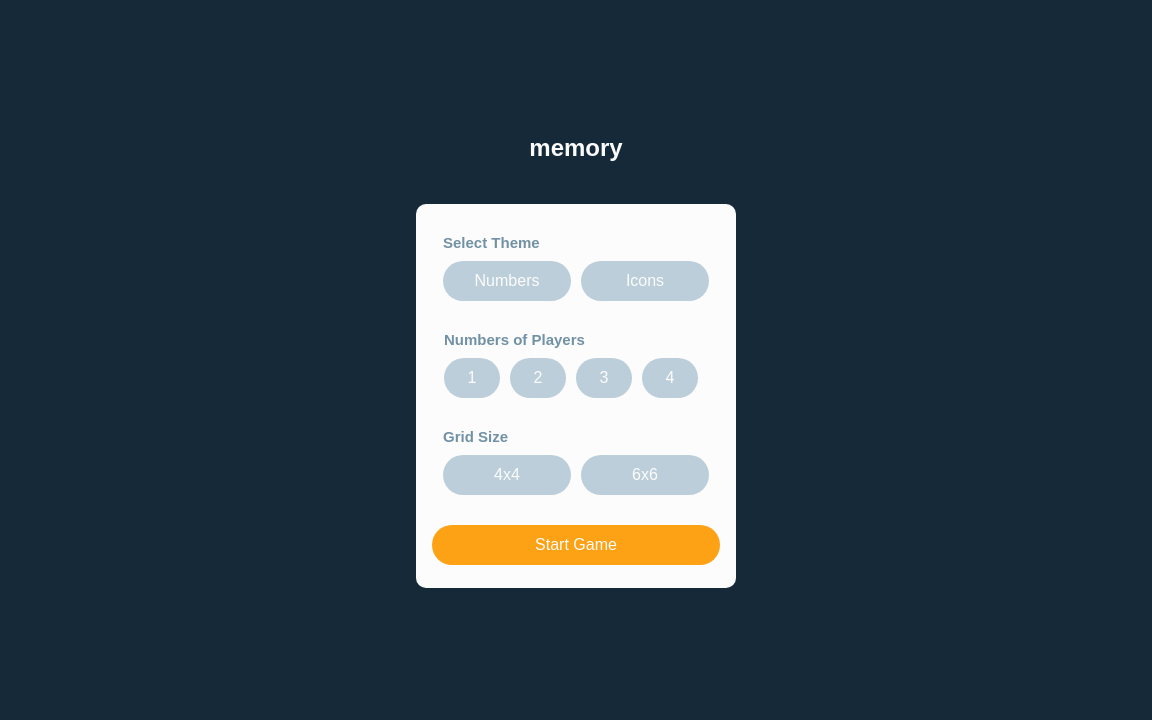
Scenario: test start game › when an icon theme, multiplayer and 4x4 grid is selected
Click the button with test id "icons" at (645, 281), box [581,261,709,301]
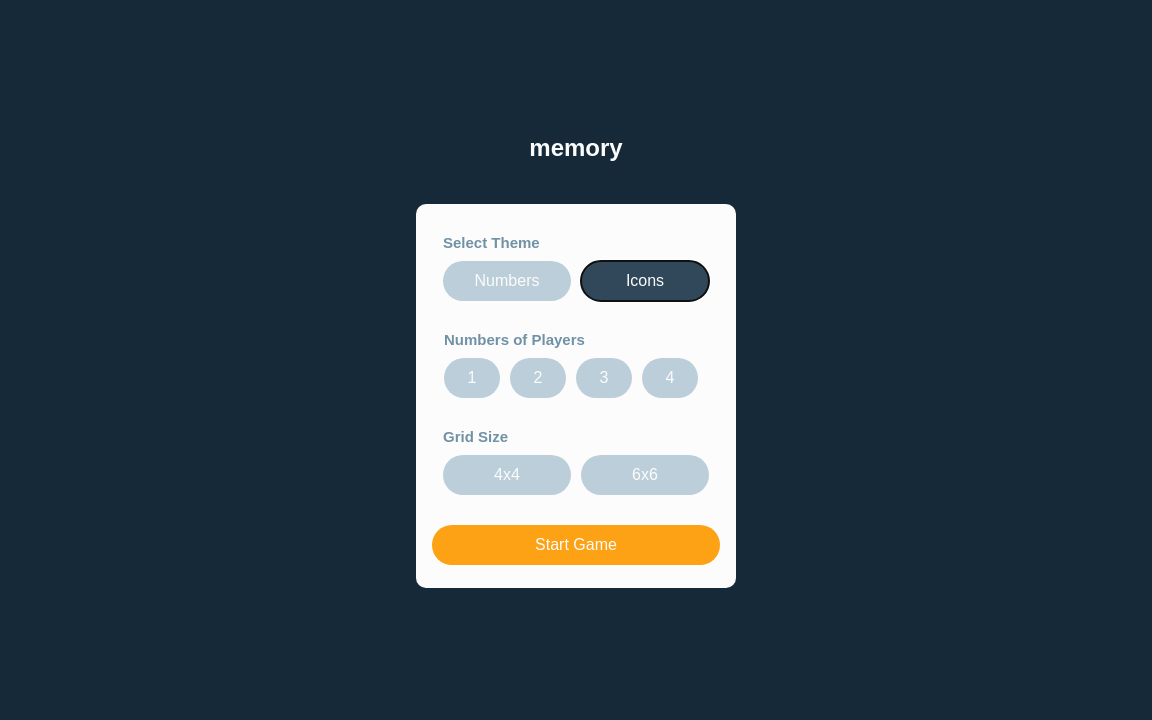
Click the button with test id "player number 2" at (538, 378), box [510,358,566,398]
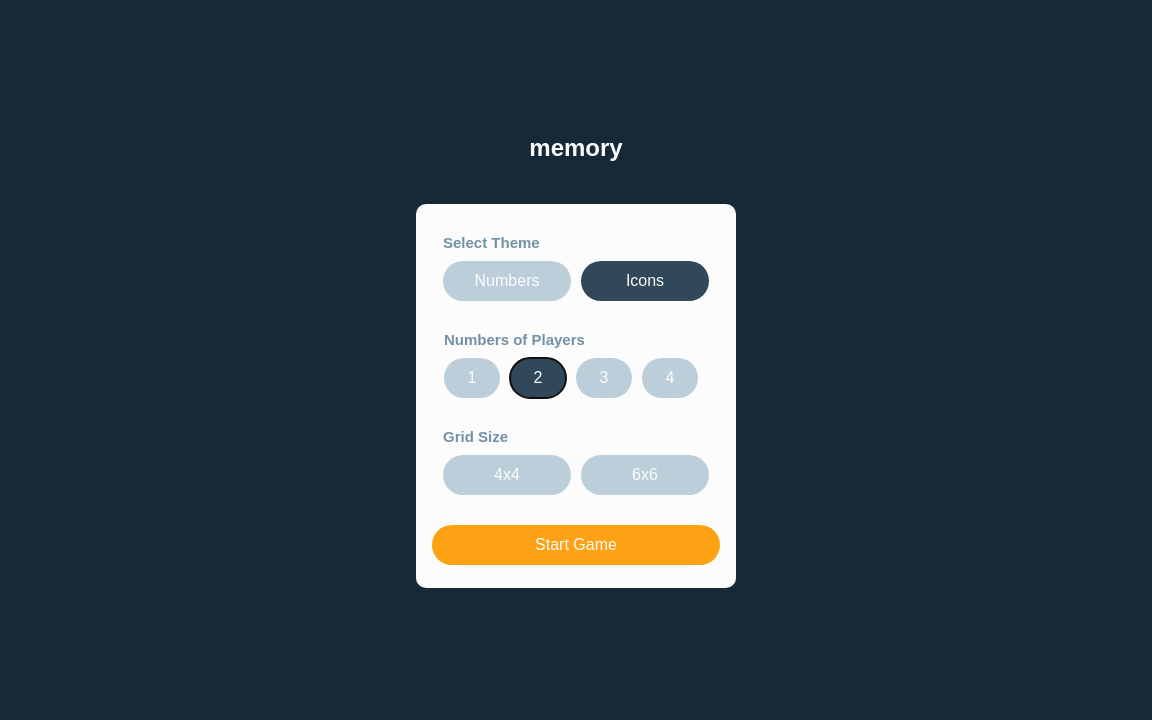
Click the button with test id "4x4" at (507, 475), box [443,455,571,495]
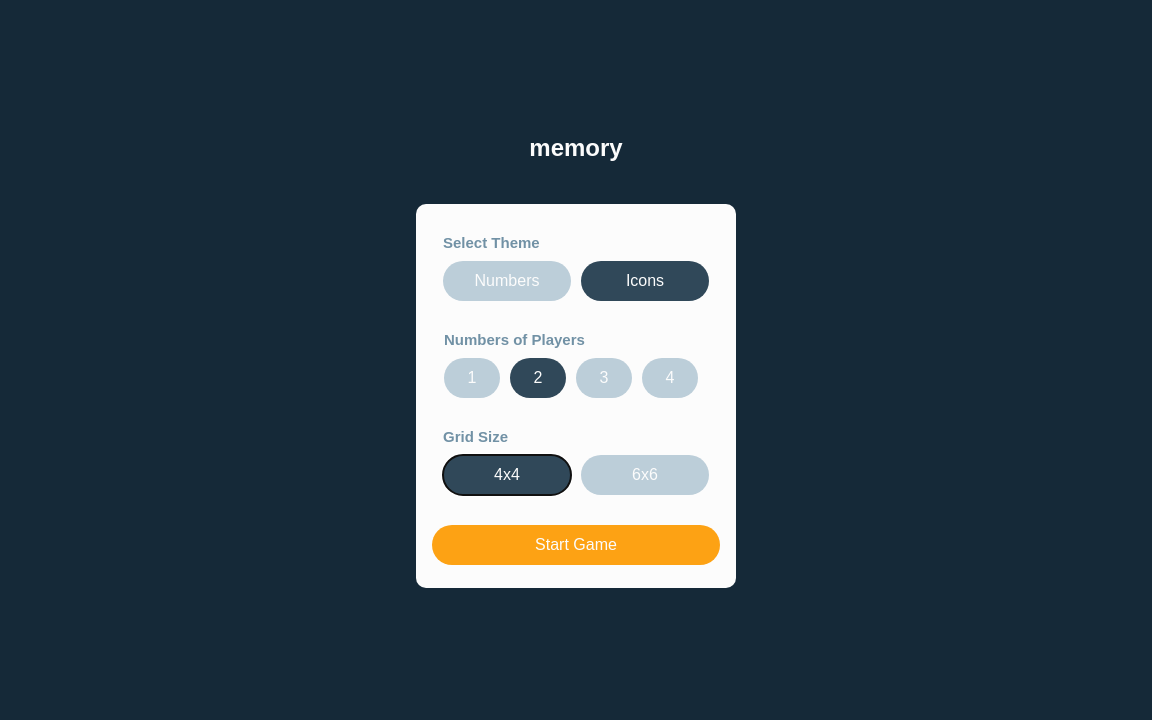
Click the button with test id "start-game" at (576, 545), box [432,525,720,565]
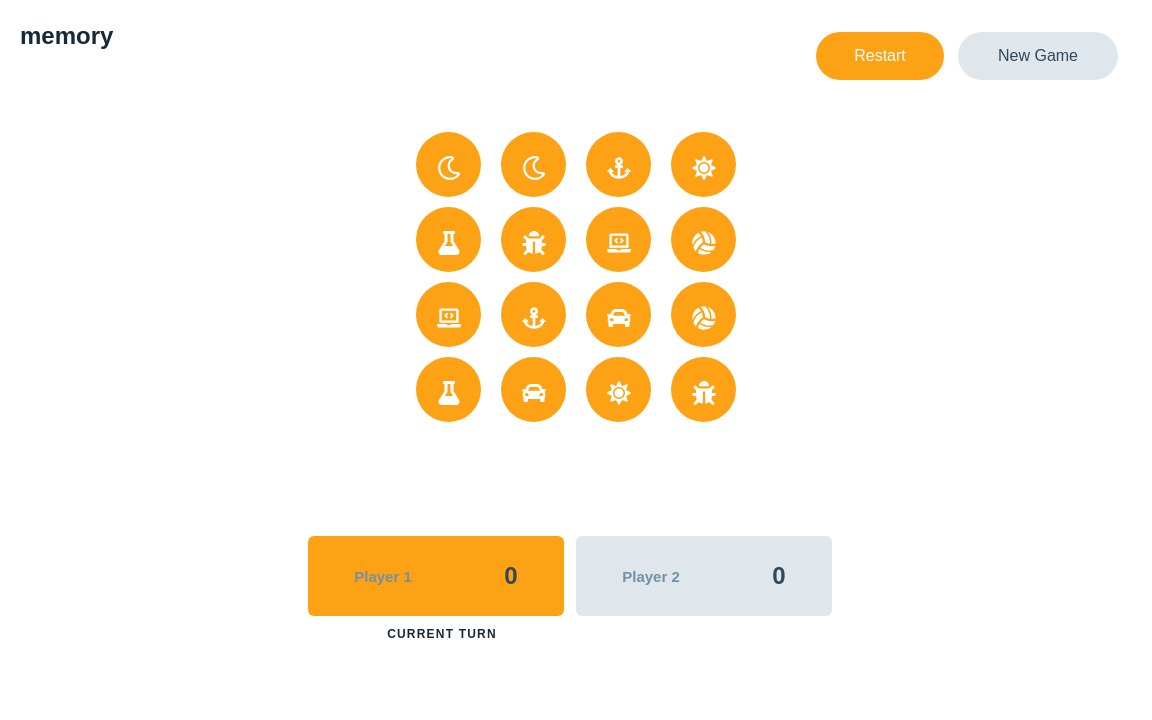
Expected: the element with test id "16" is shown, [671,357,736,422]
Expected: the element with test id "player 2" is shown, [576,536,832,616]
